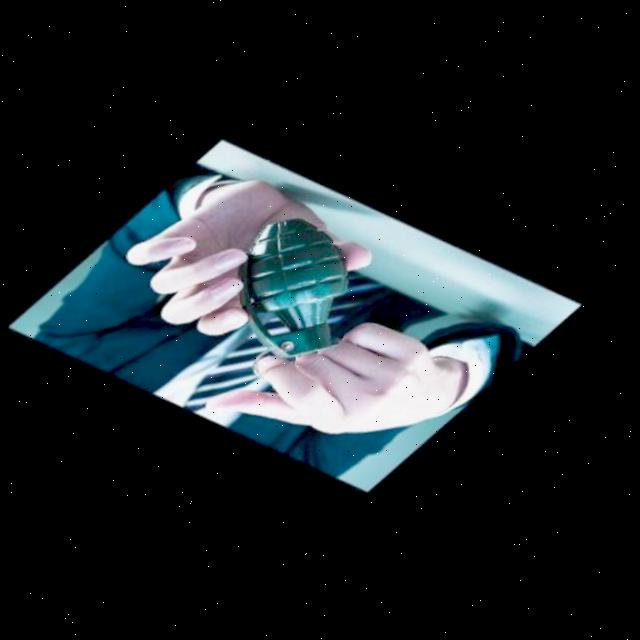grenade: (231, 198, 381, 379)
